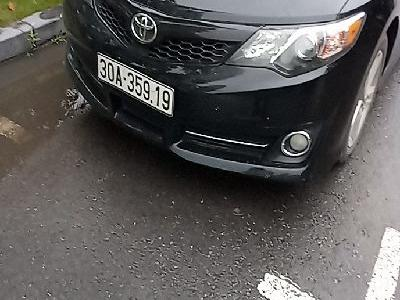car: (97, 52, 174, 117)
